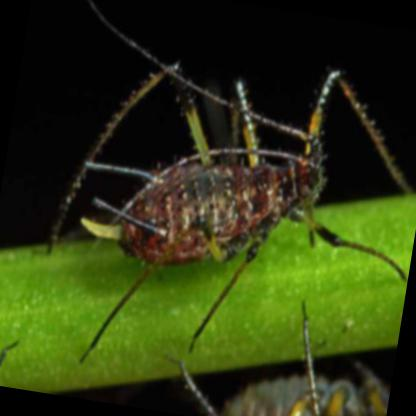uroleucon compositae: (80, 70, 344, 361)
